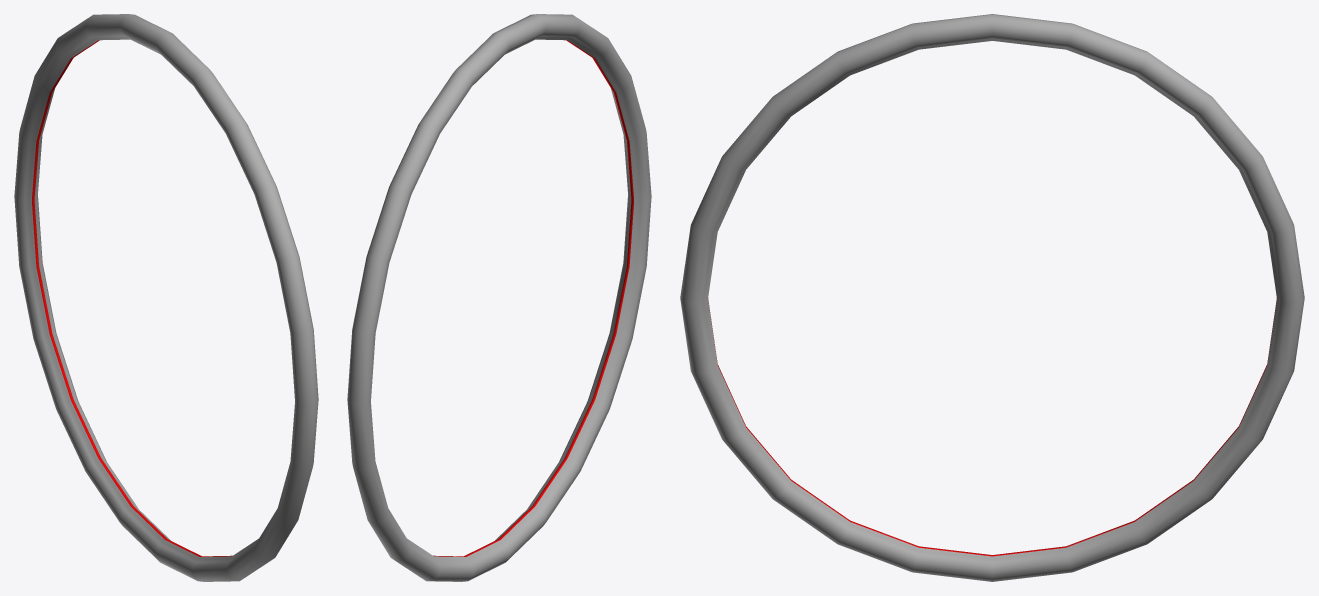
The model's file is flightSupportRing.fbx.
3 views of the same model, side by side, from view 1: azimuth 30°, elevation 25°; view 2: azimuth 150°, elevation 25°; view 3: azimuth 270°, elevation 25° (orthographic). The views are drawn at different scales.
Visible parts, largest first — view 1: flightSupportRing; view 2: flightSupportRing; view 3: flightSupportRing.
Part boxes in pixels (left/top/right/bottom): flightSupportRing: left=14, top=14, right=318, bottom=581; flightSupportRing: left=347, top=14, right=651, bottom=581; flightSupportRing: left=680, top=14, right=1304, bottom=581.
Bounding box in the file's own units: 0.0495 × 1.26 × 1.26.
